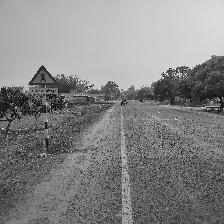Market-in-front: (28, 65, 61, 95)
